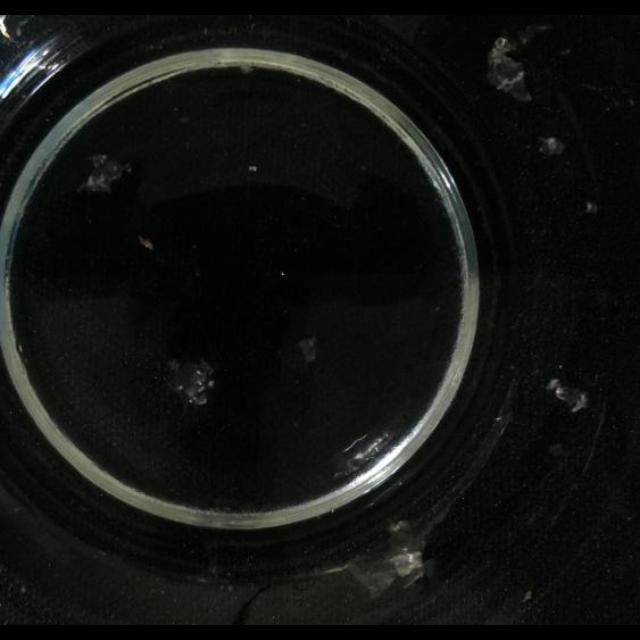Fibre: (338, 518, 434, 600), (486, 36, 532, 102), (165, 356, 217, 406), (79, 153, 131, 194), (546, 379, 588, 413), (297, 335, 319, 363), (536, 136, 566, 156), (584, 200, 598, 214)
microbeads: (137, 235, 153, 251), (521, 590, 533, 604), (248, 165, 258, 173)
